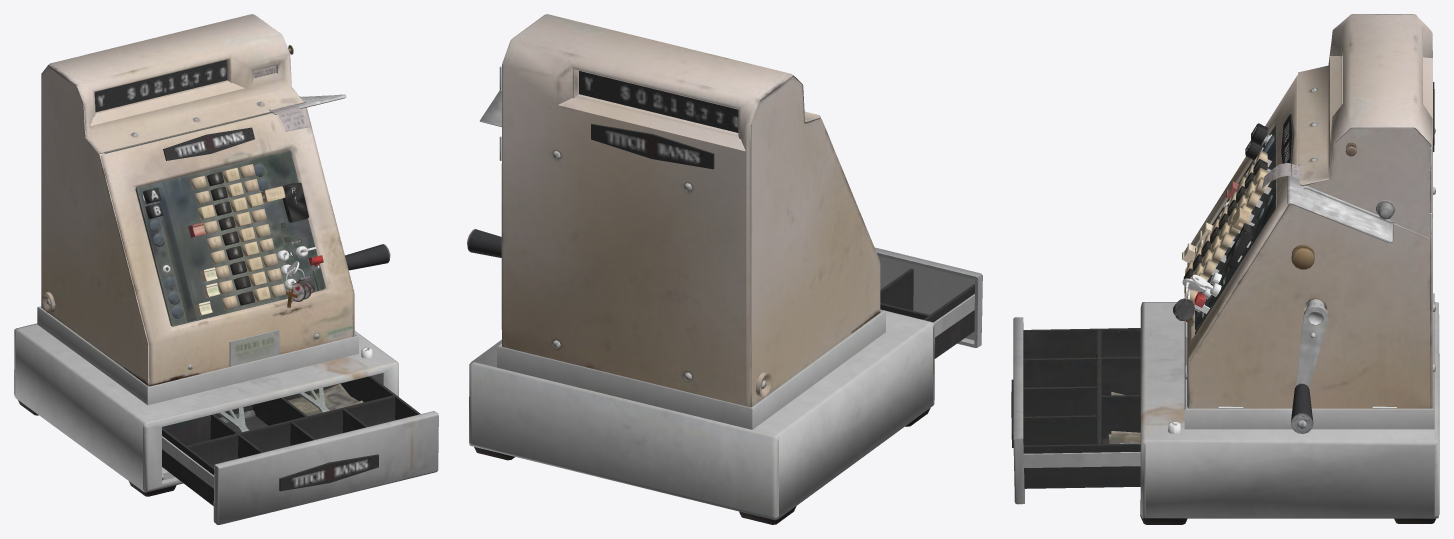
File: cash_register.glb
3 views of the same model, side by side, from view 1: azimuth 30°, elevation 25°; view 2: azimuth 150°, elevation 25°; view 3: azimuth 270°, elevation 25° (orthographic). The views are drawn at different scales.
Parts seen in each view (by area): view 1: CashRegister_01_body; view 2: CashRegister_01_body; view 3: CashRegister_01_body.
Part boxes in pixels (left/top/right/bottom): CashRegister_01_body: left=14, top=14, right=438, bottom=524; CashRegister_01_body: left=467, top=14, right=982, bottom=524; CashRegister_01_body: left=1011, top=14, right=1439, bottom=524.
Size of the model in its own units: 0.6004 by 0.621 by 0.6242.
1 material, 1 textured.
